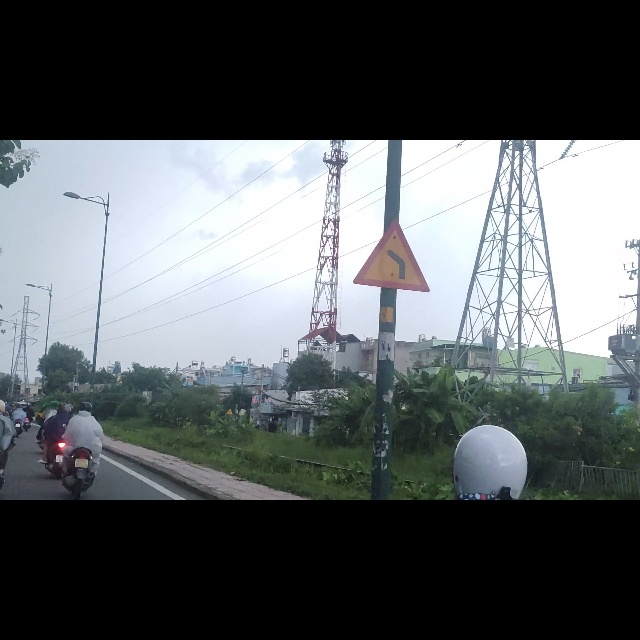bien_nguy_hiem: (353, 134, 429, 271)
